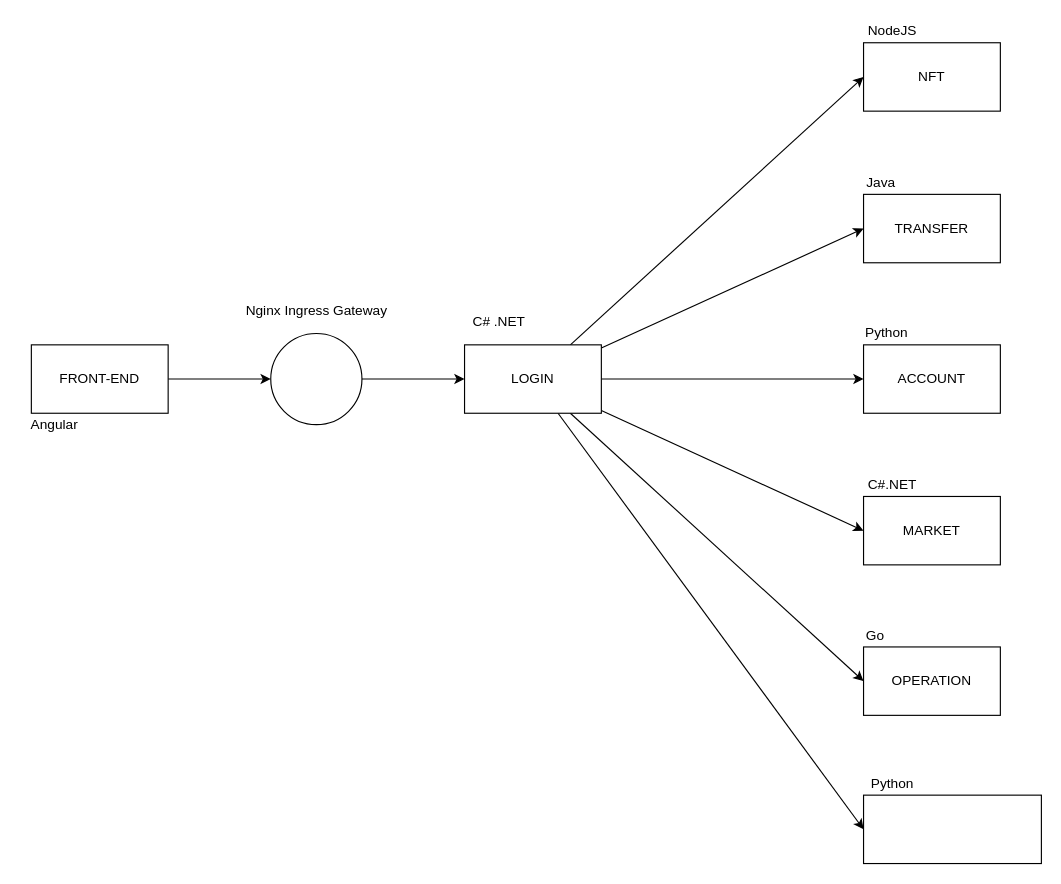
This 1061x884 diagram has some shape labels left out. Here are the shapes that lost their labels. From the top down, the centre of each, then its label:
the point at 316,378: INGRESS
the point at 951,829: INTERNALACCOUNT
